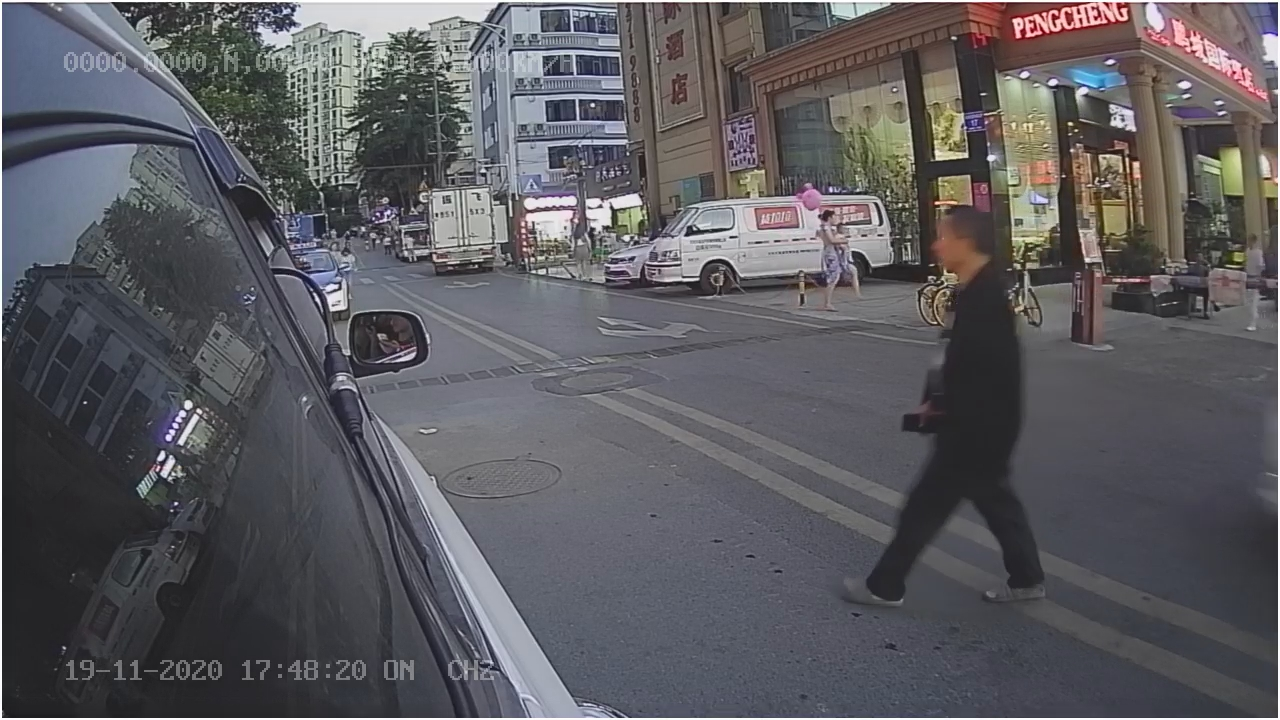person: (890, 209, 1055, 611)
